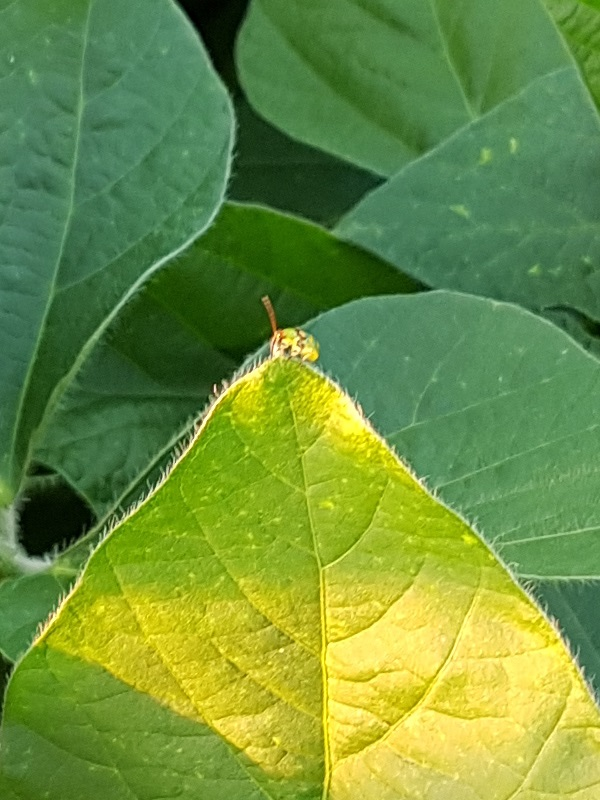Diabrotica_speciosa: (241, 297, 339, 375)
